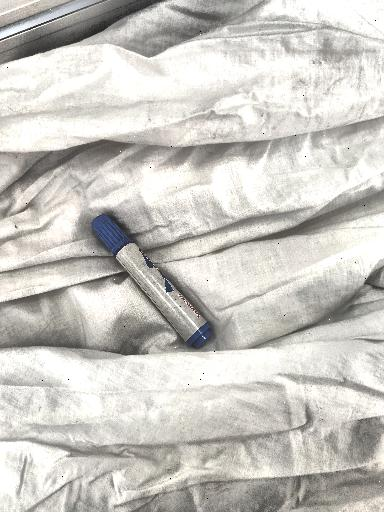marcador azul: (92, 215, 211, 348)
